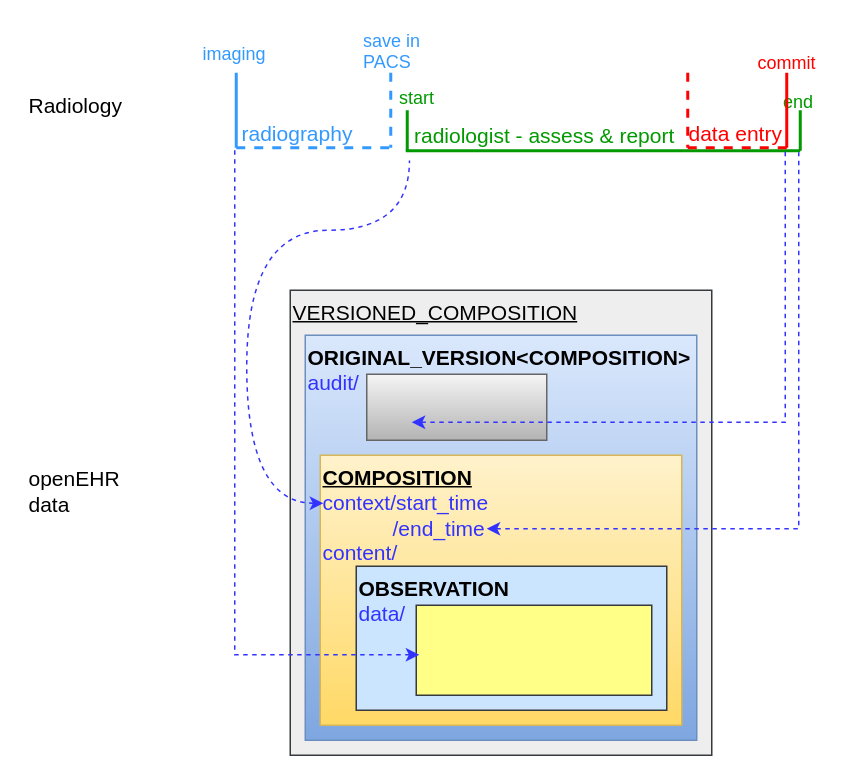
Image size: 866x782. Some labels were removed from this diagram. The shapes that lost their labels are listed below. From the top down, each one's centre as x and y in pixels, then its label:
At point 456,406: "AUDIT_DETAILS time".
At point 533,649: "HISTORY origin".
